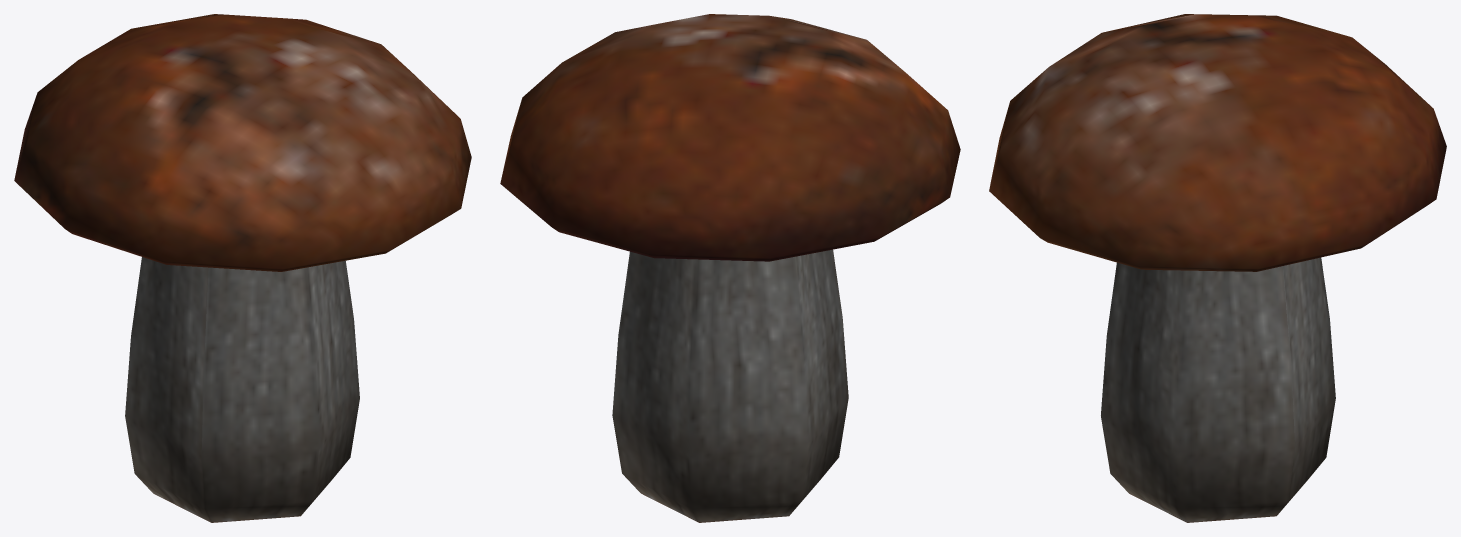
Rendered from mushroom_n_1_0.obj.
The picture shows the model from 3 angles, left to right: view 1: azimuth 30°, elevation 25°; view 2: azimuth 150°, elevation 25°; view 3: azimuth 270°, elevation 25°; orthographic projection.
Parts seen in each view (by area): view 1: mushroom_n_1_0; view 2: mushroom_n_1_0; view 3: mushroom_n_1_0.
Boxes of the visible parts, box(x1,y1,x2,y2) form: mushroom_n_1_0: box(14, 14, 471, 522); mushroom_n_1_0: box(500, 14, 960, 522); mushroom_n_1_0: box(989, 14, 1446, 522).
Bounding box in the file's own units: 0.4094 × 0.432 × 0.4093.
